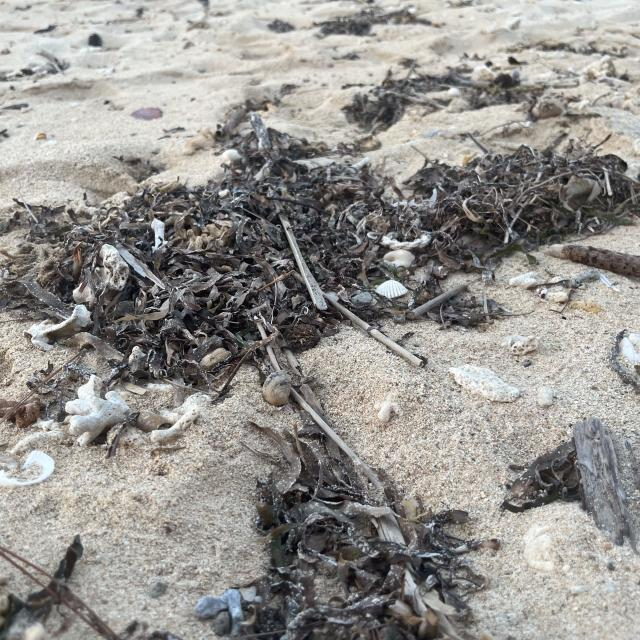coral: (64, 382, 129, 443)
seaweed: (0, 54, 640, 382), (250, 384, 463, 640)
